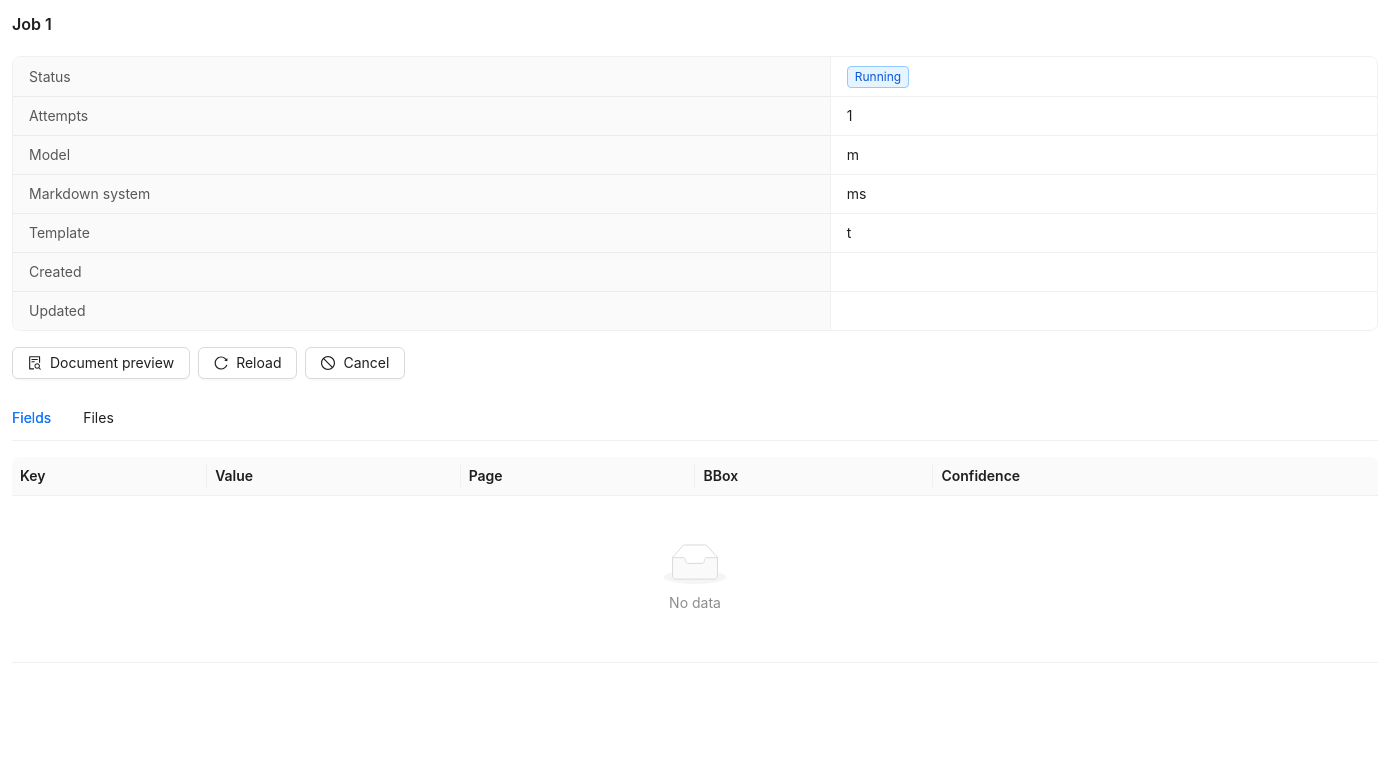
Test: lists markdown file while running
The image size is (1378, 780).
Check: the text "Reload" is shown, box [236,355,281,371]
Click the tab "Files". click: (98, 418)
box: [83,407,114,429]
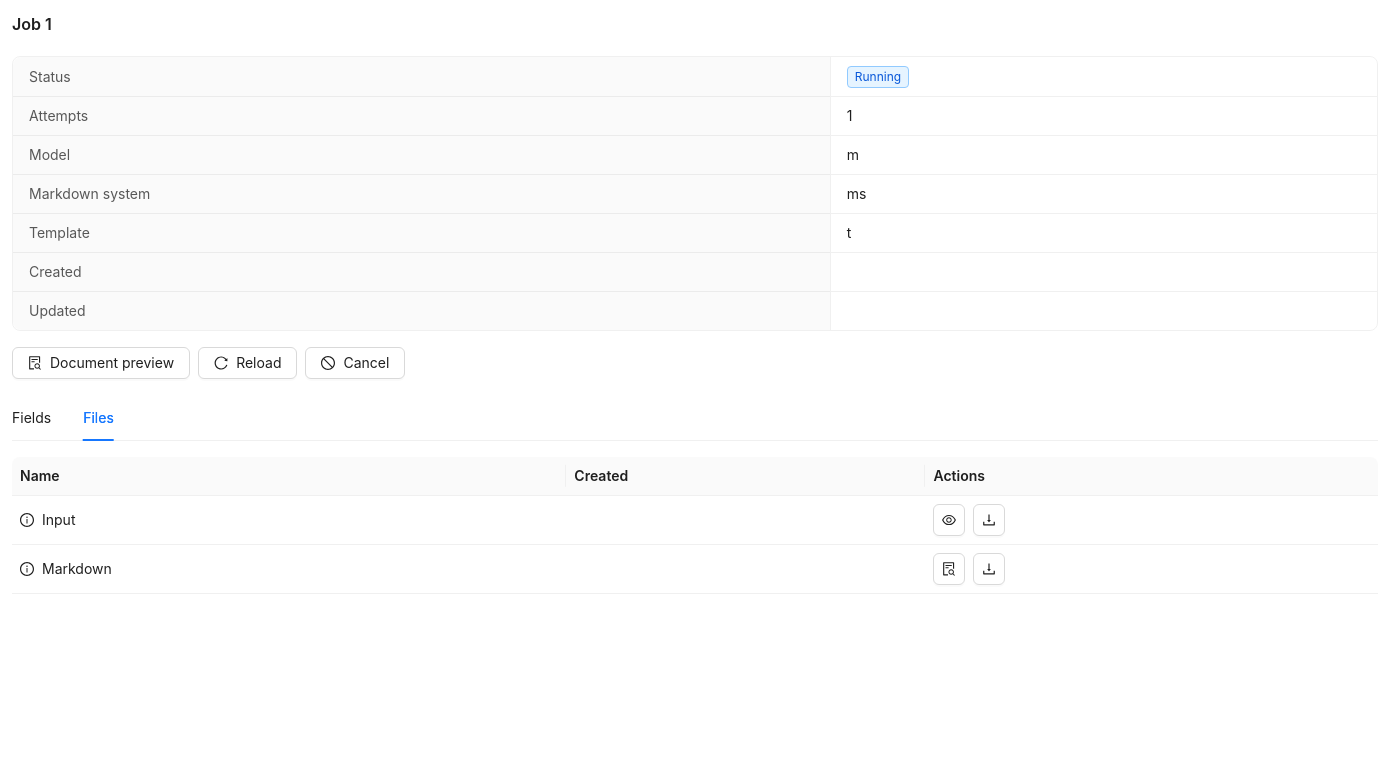
Check: the text "Markdown" is shown, box [42,558,112,580]
